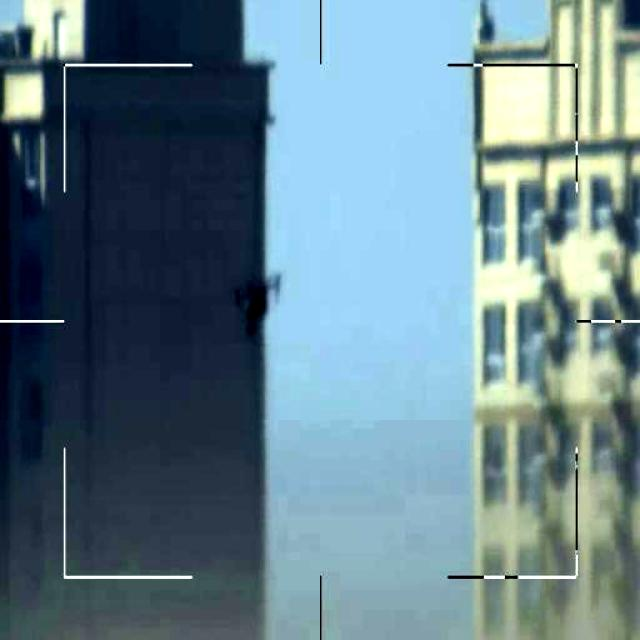bird: (226, 268, 290, 339)
